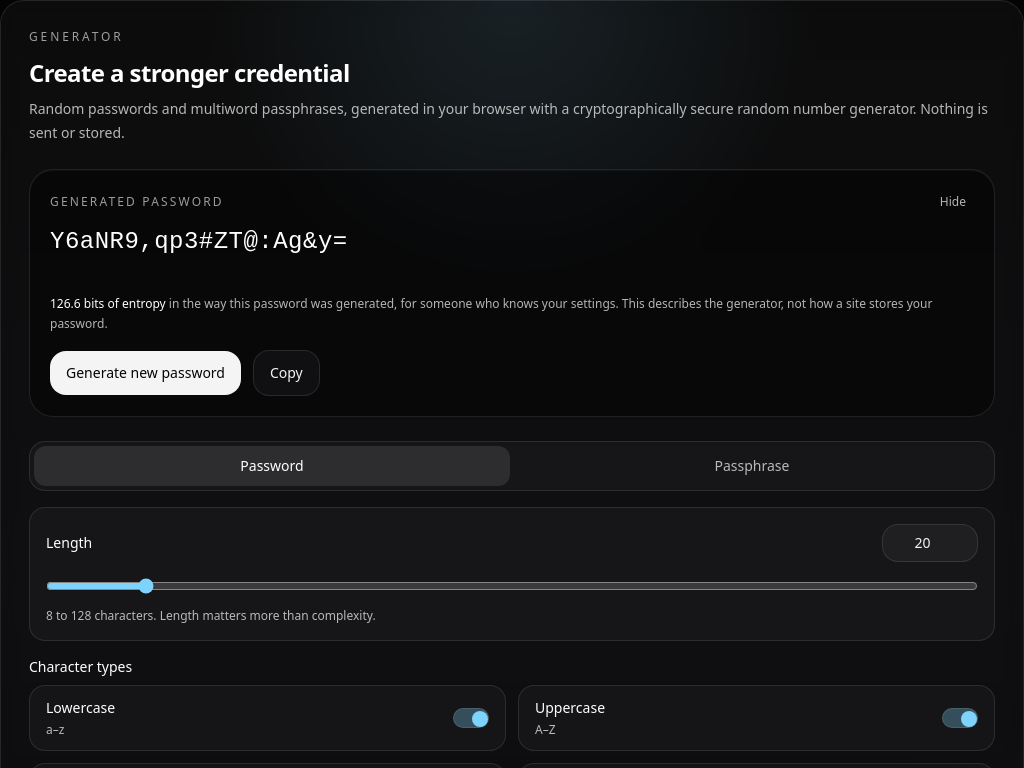
Test: PasswordGenerator: configuration › rejects the length abc with an alert
Replace the text in the number field labelled "Length" with "abc" at {"x": 930, "y": 543}, box [882,524,978,562]
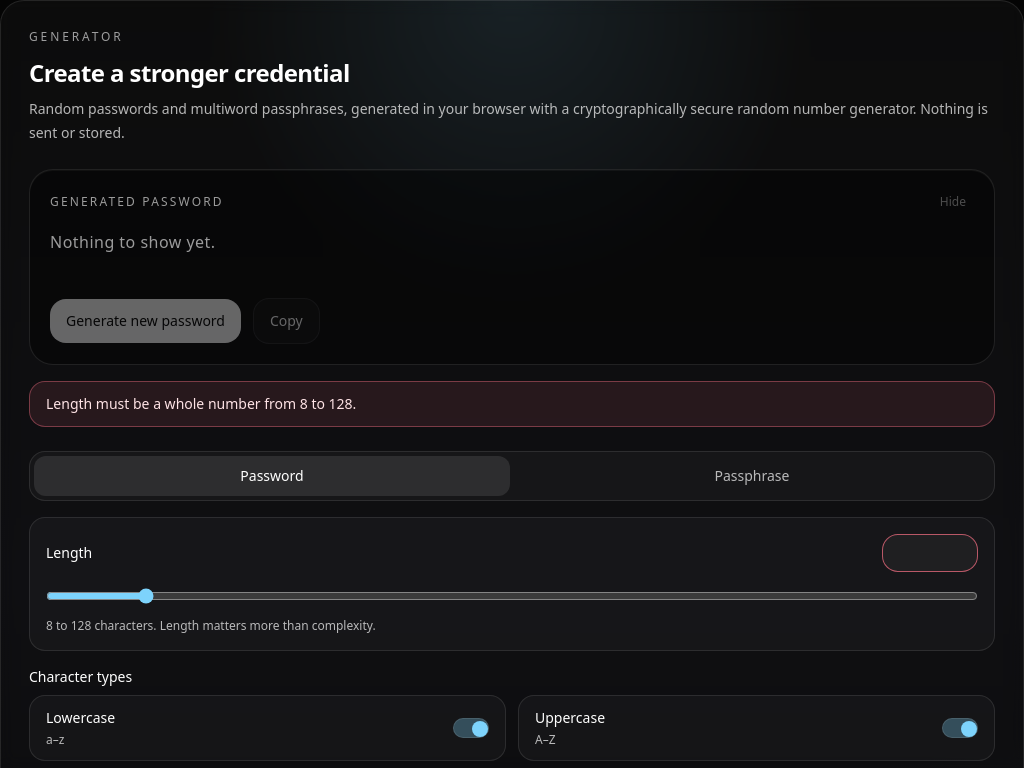
Expected: the message shows "Length must be", [46,394,356,413]
Expected: the element labelled "Nothing to show yet." is shown, [50,231,216,253]
